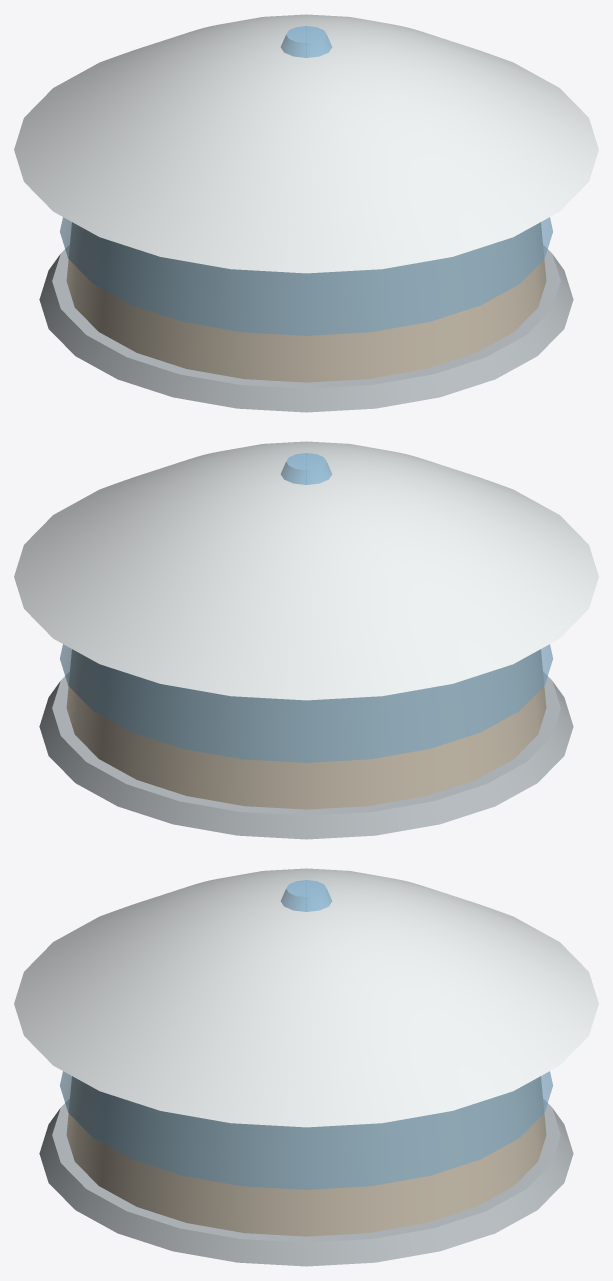
Rendered from teepott.glb.
3 views of the same model, one above another, from view 1: azimuth 30°, elevation 25°; view 2: azimuth 150°, elevation 25°; view 3: azimuth 270°, elevation 25° (orthographic).
Bounding box in the file's own units: 2.3 × 1.15 × 2.3.
